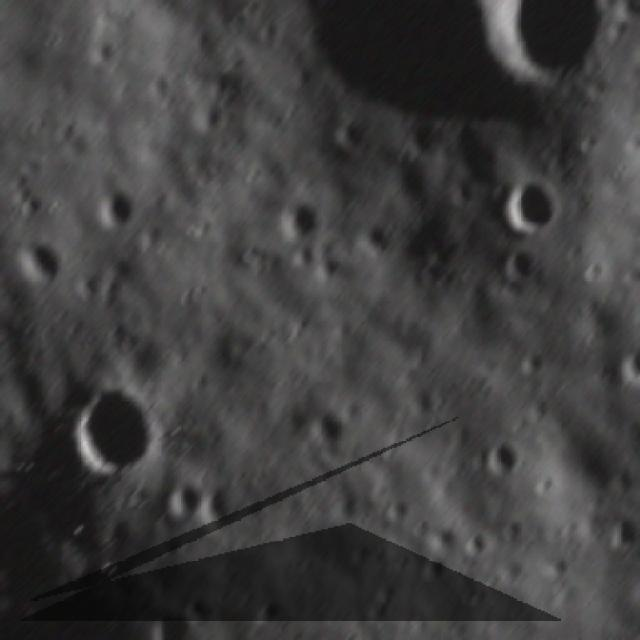crater: (466, 0, 629, 108), (65, 376, 170, 492), (489, 167, 568, 244), (14, 236, 71, 302), (271, 196, 332, 250), (91, 182, 149, 235), (202, 483, 250, 543), (298, 404, 353, 454), (154, 474, 203, 523), (496, 241, 547, 288), (352, 214, 392, 258), (604, 509, 639, 554), (482, 437, 528, 471), (419, 549, 447, 586), (462, 526, 488, 562), (253, 600, 285, 626), (502, 512, 524, 542)
